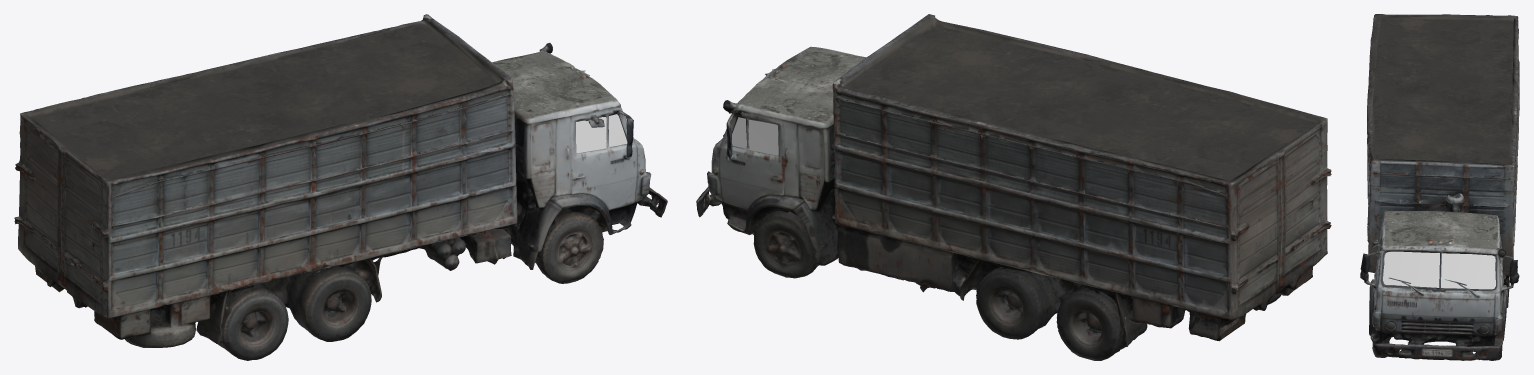
Rendered from Kamaz.fbx.
3 views of the same model, side by side, from view 1: azimuth 30°, elevation 25°; view 2: azimuth 150°, elevation 25°; view 3: azimuth 270°, elevation 25° (orthographic). The views are drawn at different scales.
Visible parts, largest first — view 1: V6_Kamaz; view 2: V6_Kamaz; view 3: V6_Kamaz.
Part boxes in pixels (x1,y1,x2,y2): V6_Kamaz: (14, 14, 667, 360); V6_Kamaz: (696, 14, 1331, 360); V6_Kamaz: (1360, 14, 1519, 360).
Bounding box in the file's own units: 1049 × 395 × 331.
